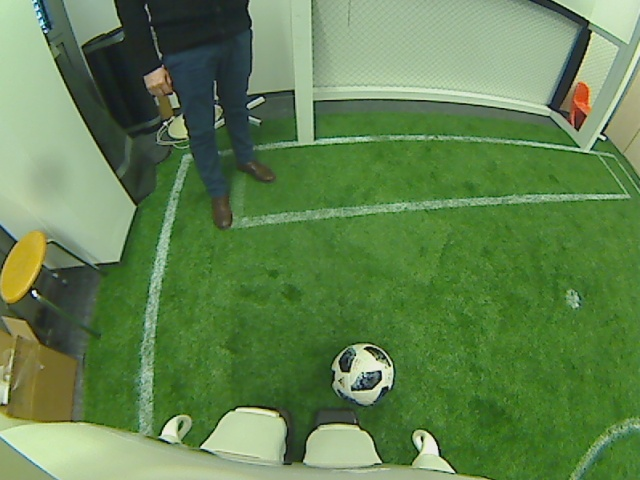ball: (326, 339, 395, 411)
